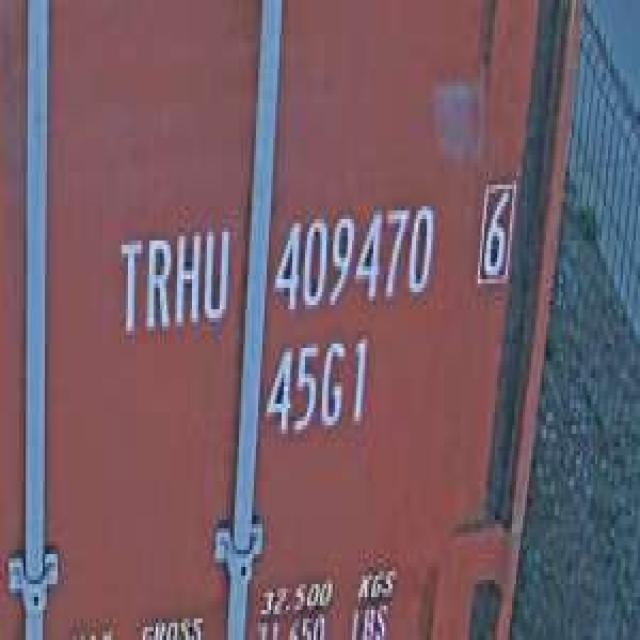dv: (472, 168, 516, 292)
owner: (111, 210, 232, 344)
serial: (266, 193, 439, 322)
size: (262, 331, 372, 446)
